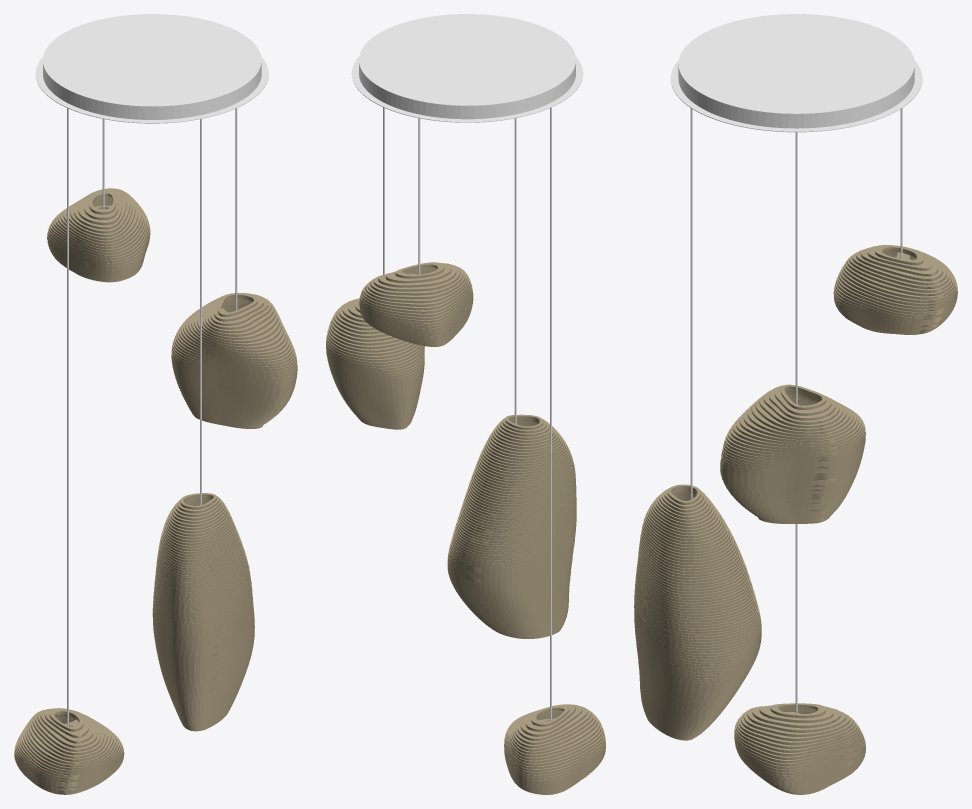
3 views of the same model, side by side, from view 1: azimuth 30°, elevation 25°; view 2: azimuth 150°, elevation 25°; view 3: azimuth 270°, elevation 25° (orthographic). The views are drawn at different scales.
Bounding box in the file's own units: 0.7485 × 2 × 0.7711.
